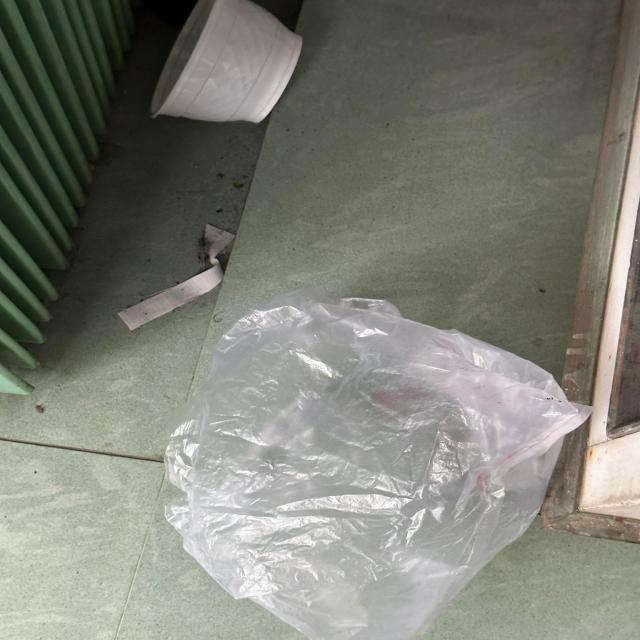bag: (164, 297, 592, 640)
clothes: (117, 222, 236, 331)
plastic holder: (149, 0, 302, 123)
